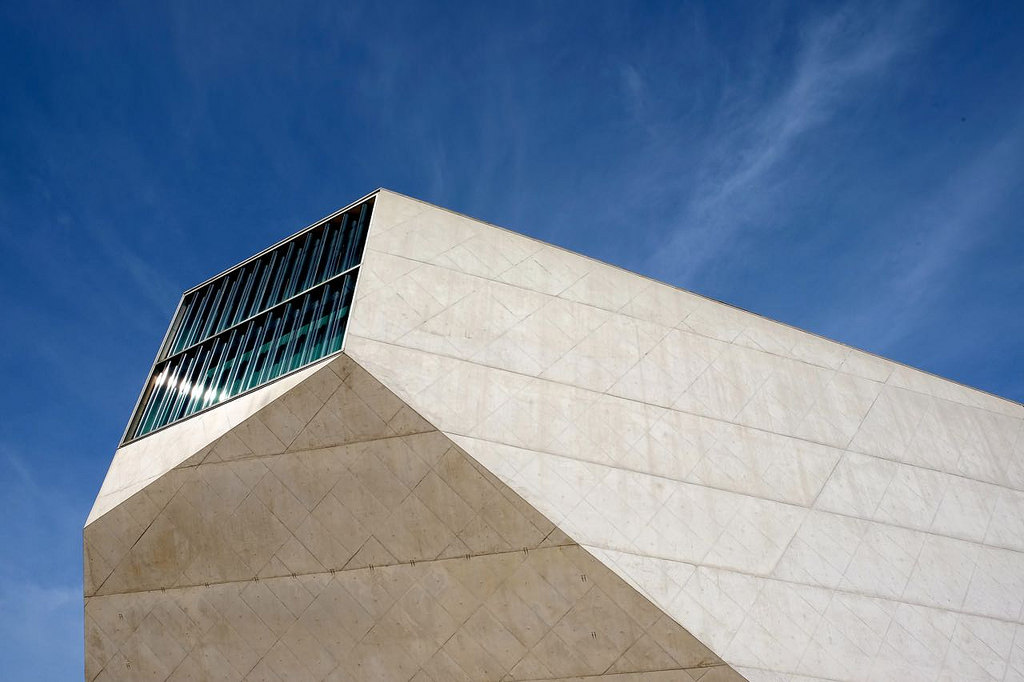musica: (82, 188, 1023, 681)
